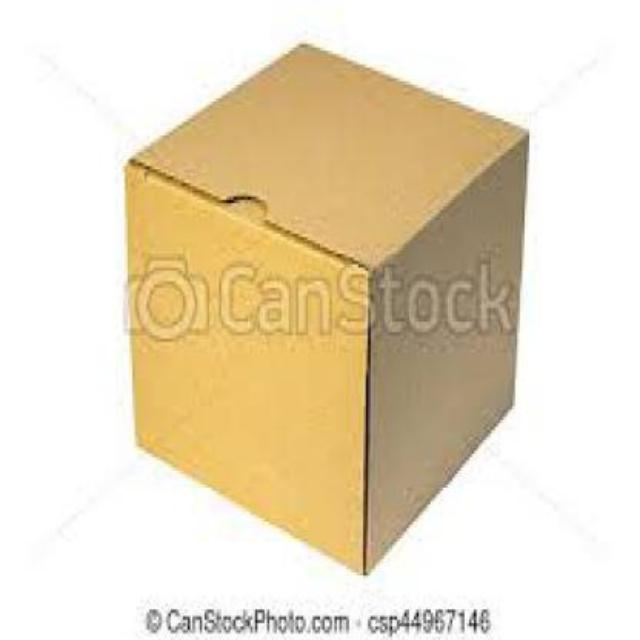cardboard_box: (96, 37, 556, 573)
